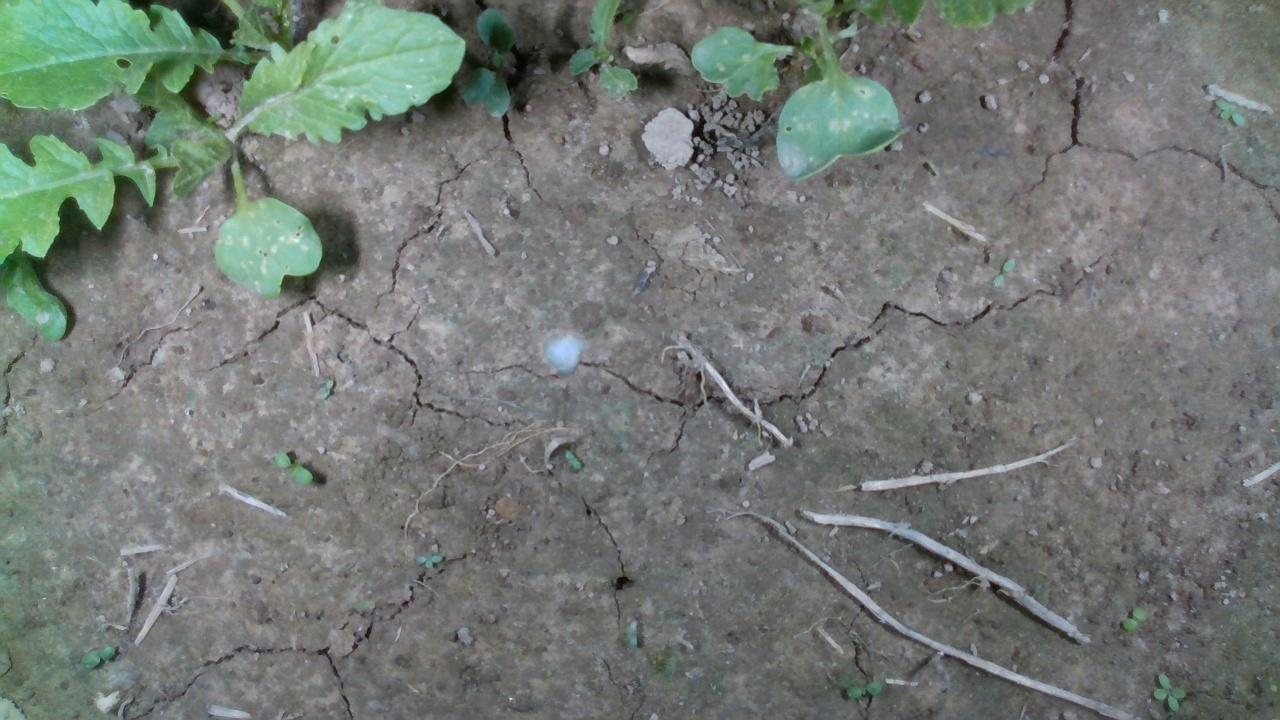weed: (269, 445, 316, 485)
